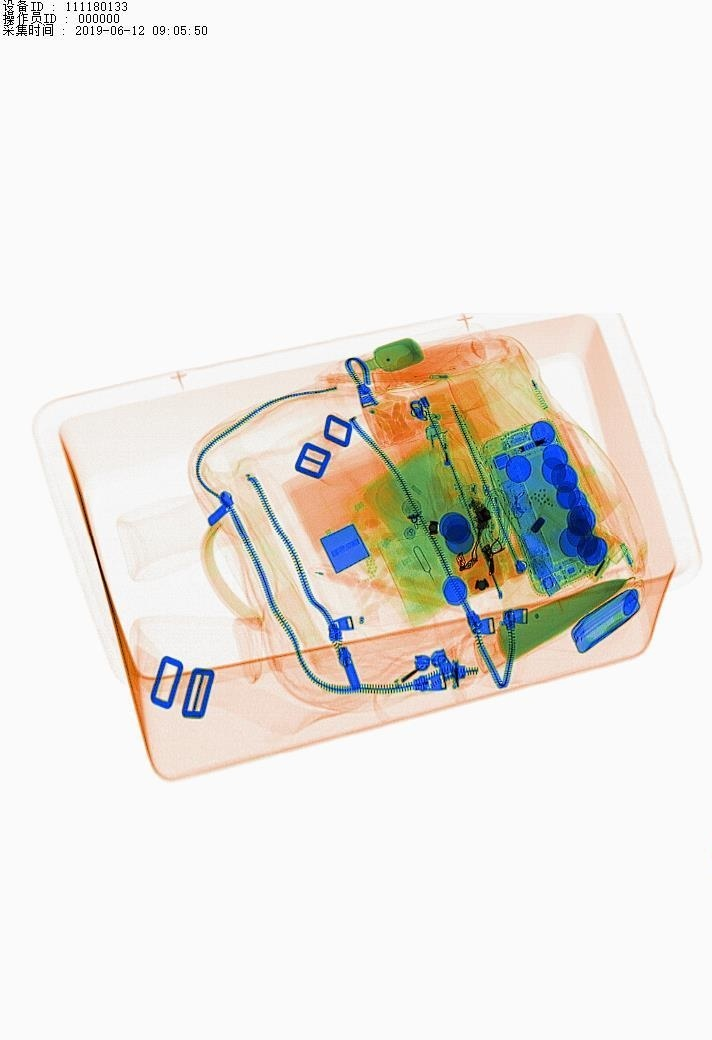NonmetallicFire: (419, 415, 465, 524)
